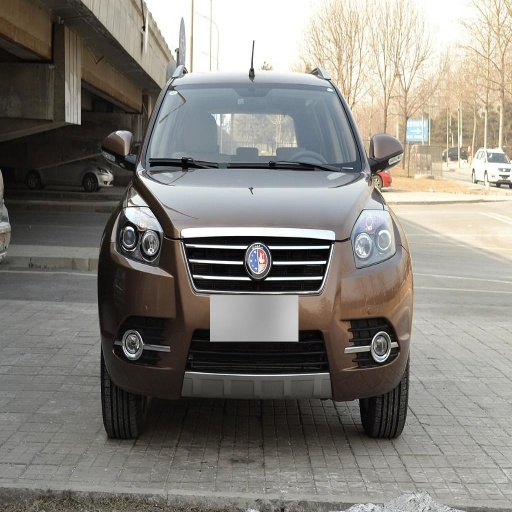front_bumper: (101, 209, 413, 399)
front_right_light: (114, 194, 162, 264)
hood: (137, 166, 379, 238)
